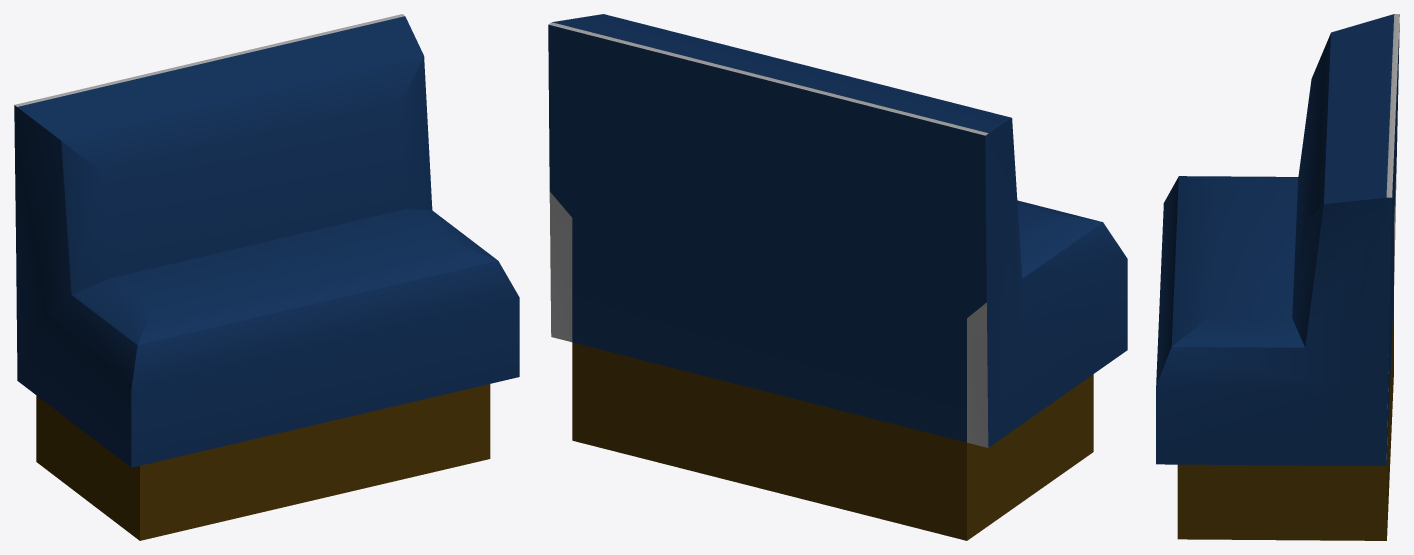
The model's file is library chair.fbx.
3 views of the same model, side by side, from view 1: azimuth 30°, elevation 25°; view 2: azimuth 150°, elevation 25°; view 3: azimuth 270°, elevation 25° (orthographic). The views are drawn at different scales.
Parts seen in each view (by area): view 1: Sofa; view 2: Sofa; view 3: Sofa.
Part boxes in pixels (box(x1,y1,x2,y2)): Sofa: box(14, 14, 519, 540); Sofa: box(548, 14, 1127, 540); Sofa: box(1156, 14, 1399, 540).
Size of the model in its own units: 1.49 by 1.32 by 0.8307.
